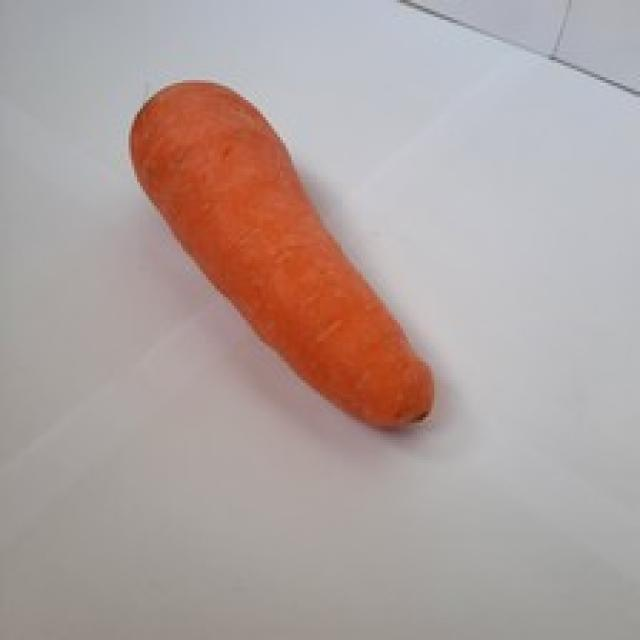Fresh_Carrot: (123, 80, 446, 432)
